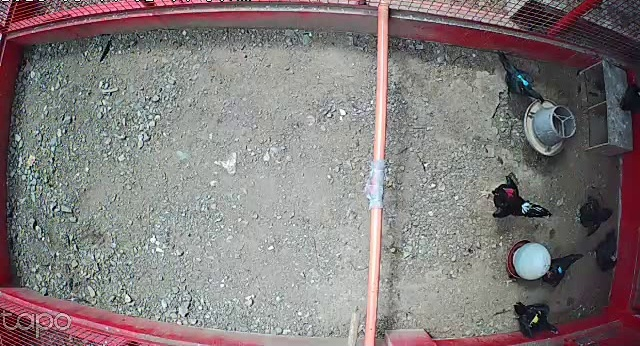Chicken: (493, 44, 549, 109), (510, 298, 562, 340), (537, 246, 586, 288), (571, 196, 613, 235), (587, 229, 623, 273)
Rooster: (480, 170, 553, 223)
Saddle_Color_Blue: (558, 266, 563, 273)
Saddle_Color_Yellow: (531, 309, 542, 326)
